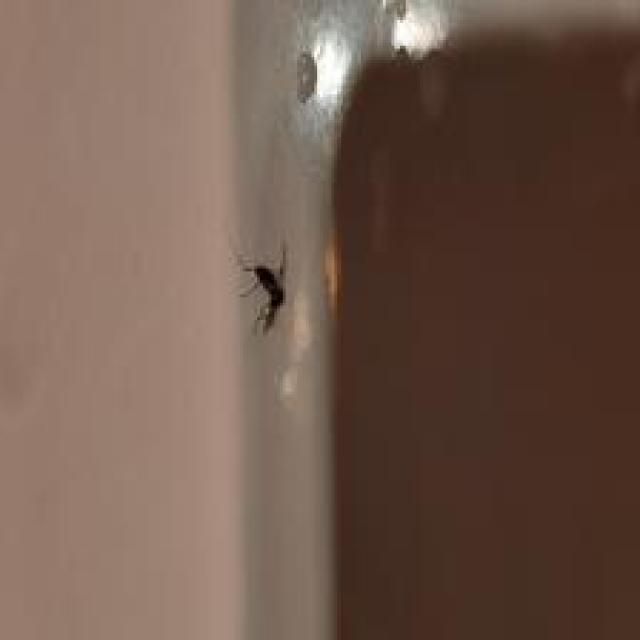Aedes albopictus: (237, 246, 289, 334)
